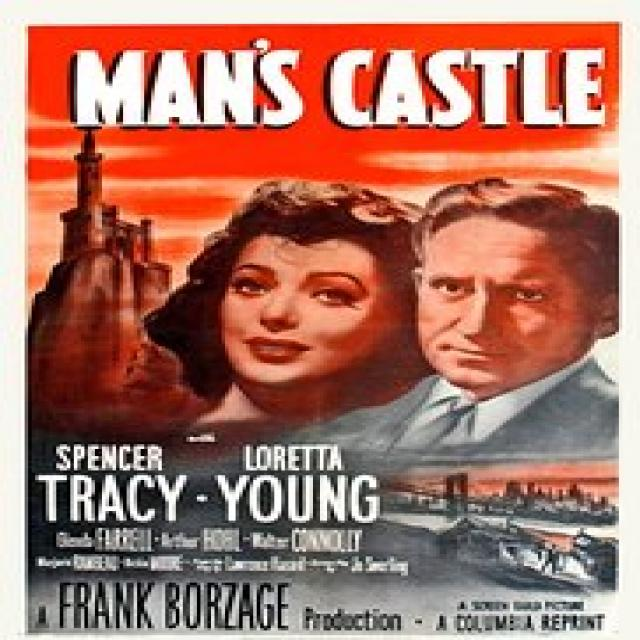movie-judul: (64, 36, 616, 132)
picture: (35, 132, 630, 446)
